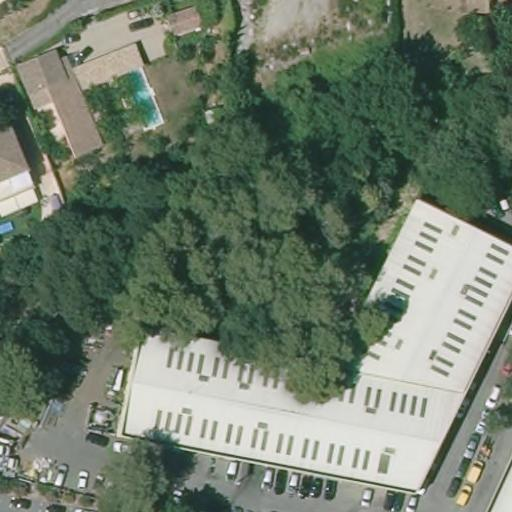pool: (102, 64, 174, 133)
